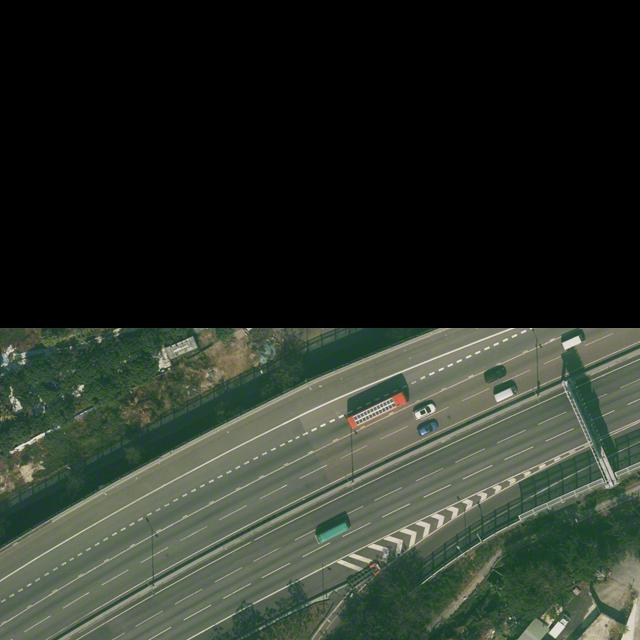panel: (353, 398, 396, 425)
